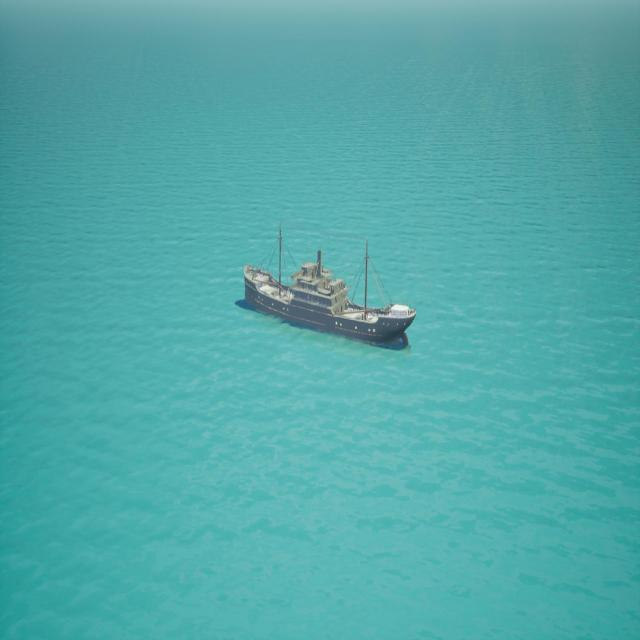fishing ship: (240, 226, 416, 349)
